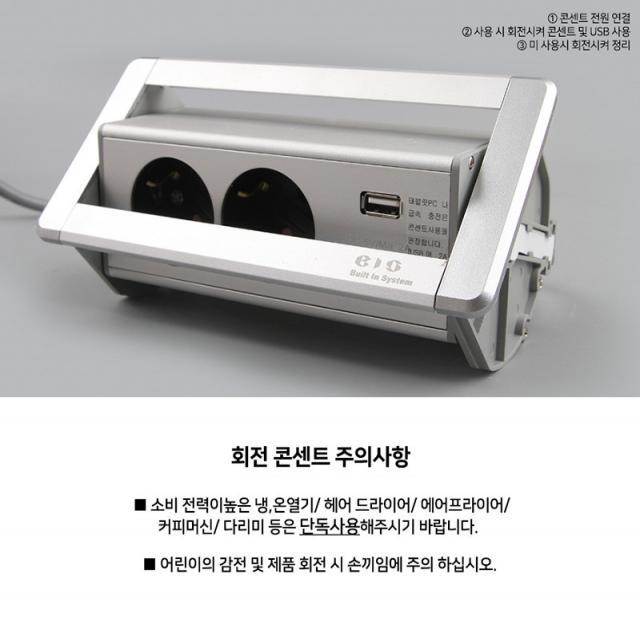typeb: (120, 86, 408, 298)
